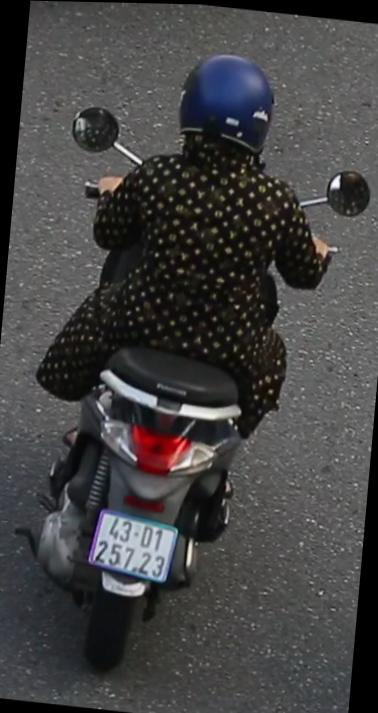LP: (89, 504, 182, 585)
helmet: (168, 42, 286, 180)
